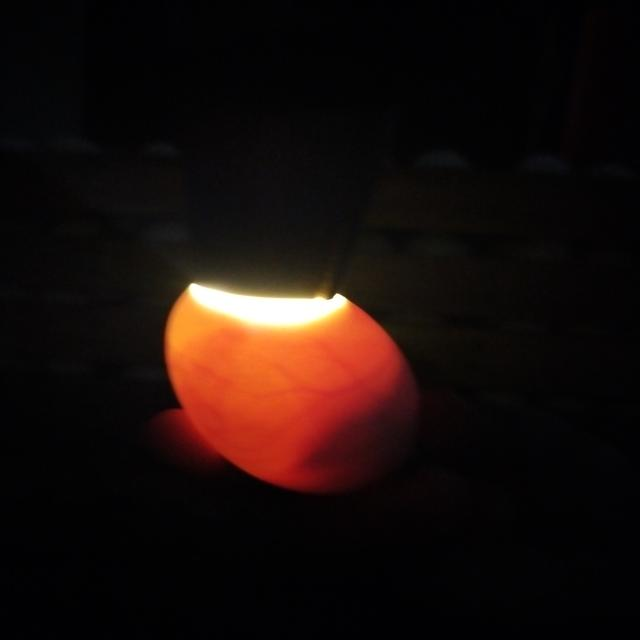Embriao: (279, 364, 424, 492)
